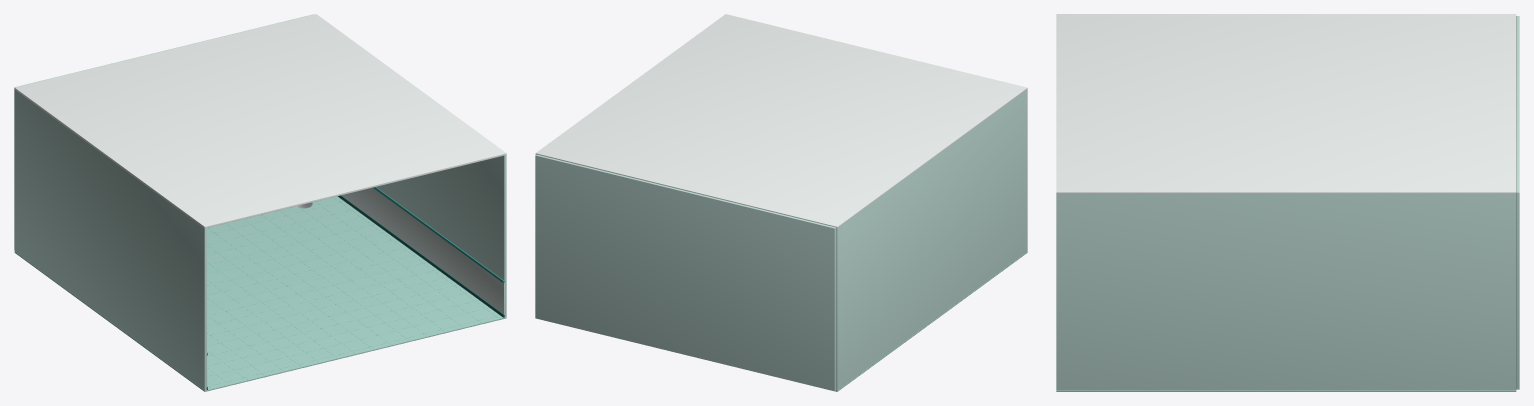
Rendered from room.glb.
3 renders of one model, left to right at view 1: azimuth 30°, elevation 25°; view 2: azimuth 150°, elevation 25°; view 3: azimuth 270°, elevation 25°, orthographic. The views are drawn at different scales.
Parts seen in each view (by area): view 1: Ceiling, Floor, LeftWall, RightWall, WainscotR, FloorSeams, BaseR, RailR, BackWall; view 2: Ceiling, BackWall, LeftWall; view 3: RightWall, Ceiling, BackWall, Floor.
Part boxes in pixels (box(x1,y1,x2,y2)): Ceiling: box(14, 14, 506, 228); Floor: box(14, 196, 506, 391); LeftWall: box(14, 90, 206, 390); RightWall: box(376, 155, 506, 317); WainscotR: box(341, 187, 504, 314); FloorSeams: box(207, 198, 499, 387); BaseR: box(338, 195, 504, 317); RailR: box(373, 187, 504, 283); BackWall: box(14, 14, 313, 249); Ceiling: box(535, 14, 1027, 228); BackWall: box(535, 154, 836, 391); LeftWall: box(836, 89, 1027, 390); RightWall: box(1056, 193, 1516, 390); Ceiling: box(1056, 14, 1516, 194); BackWall: box(1516, 16, 1519, 389); Floor: box(1056, 390, 1516, 391).
Size of the model in its own units: 50.4 by 26.35 by 55.4.
